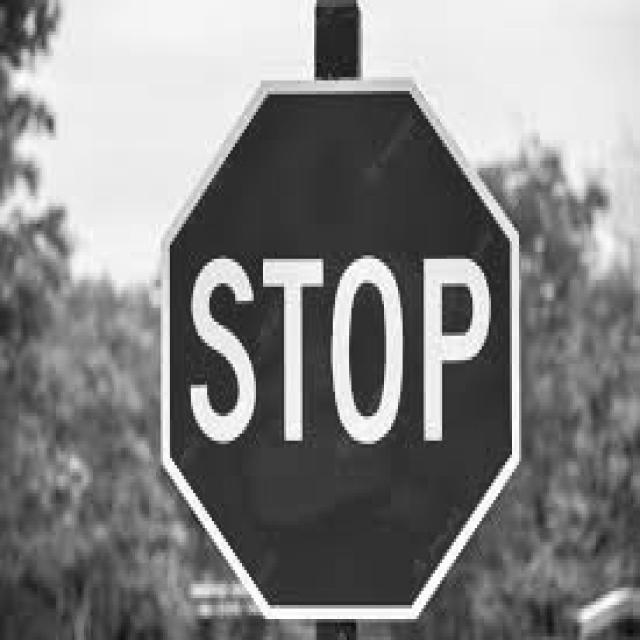stop sign: (165, 78, 521, 620)
